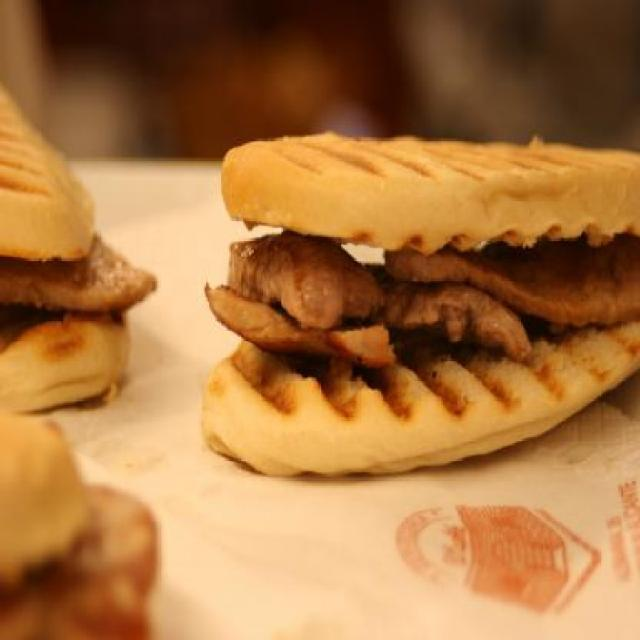Sandwich: (195, 129, 640, 480), (0, 75, 157, 414), (0, 412, 160, 640)
